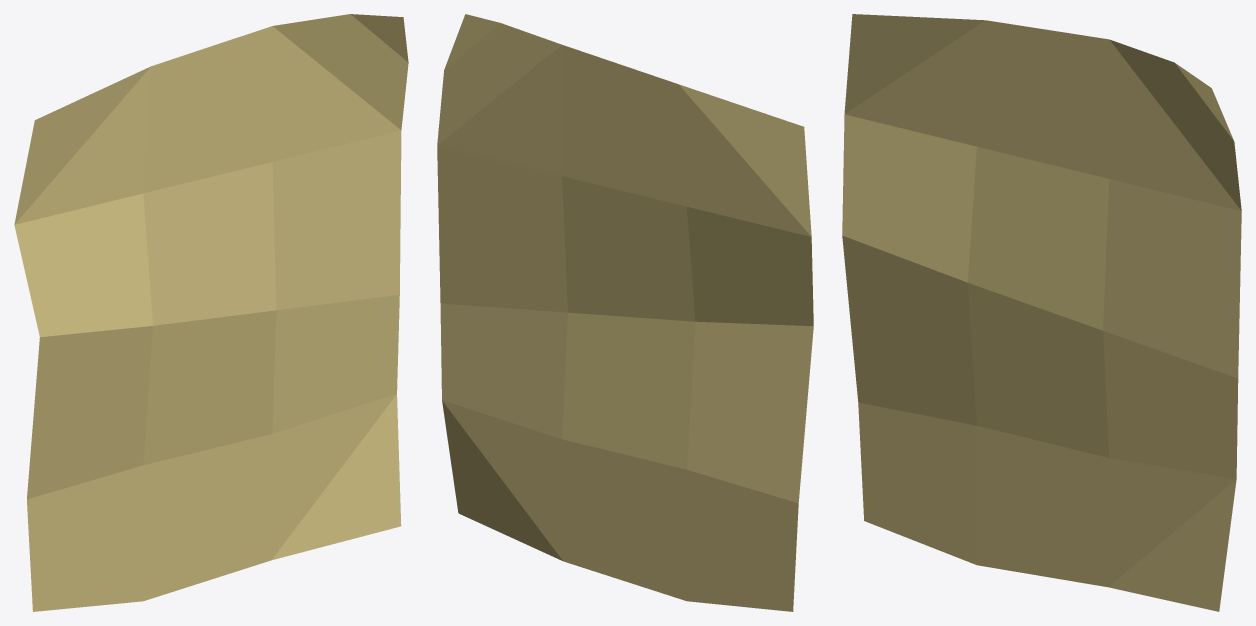
The model's file is Poster.fbx.
3 views of the same model, side by side, from view 1: azimuth 30°, elevation 25°; view 2: azimuth 150°, elevation 25°; view 3: azimuth 330°, elevation 25° (orthographic). The views are drawn at different scales.
Visible parts, largest first — view 1: Poster; view 2: Poster; view 3: Poster.
Boxes of the visible parts, bbox=[...] form: Poster: bbox=[14, 14, 408, 611]; Poster: bbox=[437, 14, 813, 611]; Poster: bbox=[842, 14, 1241, 611].
Size of the model in its own units: 207 by 277 by 14.86.
